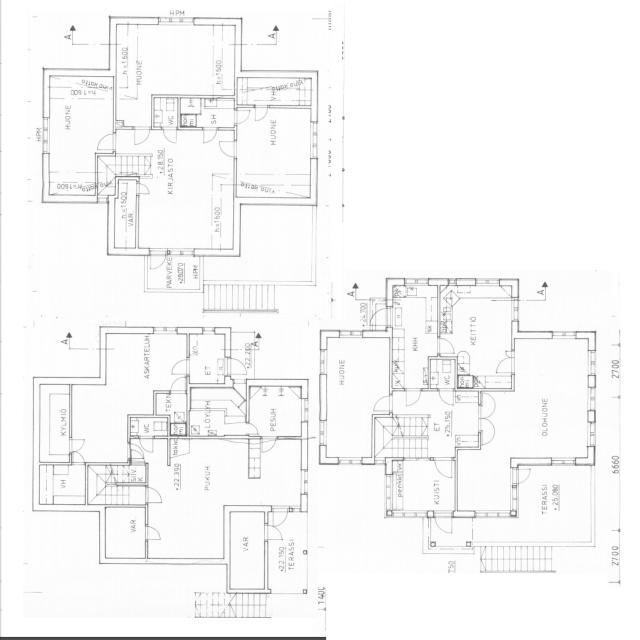door: (128, 414, 170, 440), (428, 353, 456, 390), (478, 395, 498, 442), (95, 130, 118, 153), (433, 455, 455, 479), (433, 511, 455, 535), (226, 355, 248, 379), (369, 305, 391, 329), (494, 353, 516, 376), (371, 393, 393, 414), (169, 356, 191, 376), (436, 334, 456, 356), (148, 250, 168, 270), (218, 138, 238, 158), (131, 437, 151, 457), (67, 435, 88, 454), (168, 374, 188, 393), (144, 485, 164, 504), (270, 506, 289, 526), (404, 387, 422, 408), (132, 126, 151, 145), (233, 106, 252, 125), (264, 523, 284, 541), (161, 125, 179, 144), (200, 125, 218, 144), (514, 466, 532, 484), (144, 524, 163, 541), (253, 102, 269, 122), (438, 388, 455, 406), (128, 447, 146, 464), (138, 435, 155, 453), (261, 435, 277, 453), (136, 180, 152, 196), (70, 449, 86, 465), (244, 421, 260, 436)
window: (308, 118, 321, 159), (39, 114, 52, 154), (157, 15, 196, 26), (473, 509, 512, 520), (585, 419, 599, 449), (317, 346, 329, 378), (586, 348, 599, 377), (298, 397, 310, 426), (317, 416, 328, 446), (550, 328, 579, 339), (395, 508, 426, 518), (338, 328, 367, 338), (473, 276, 501, 286), (336, 457, 364, 466), (152, 325, 179, 334), (404, 276, 430, 285), (168, 248, 196, 255), (202, 326, 217, 334)
zone: (506, 332, 594, 464), (138, 132, 232, 252), (321, 331, 390, 464), (128, 21, 237, 96), (235, 105, 315, 202), (446, 282, 514, 391), (515, 463, 594, 541), (44, 92, 114, 180), (168, 438, 259, 503), (104, 332, 188, 398), (390, 284, 438, 390), (70, 380, 130, 463), (454, 448, 516, 516), (386, 458, 456, 514), (247, 384, 305, 437), (228, 510, 266, 590), (188, 386, 246, 437), (238, 70, 306, 106), (104, 505, 146, 559), (42, 384, 70, 461), (188, 332, 227, 386), (37, 464, 87, 506), (180, 97, 238, 128), (153, 390, 188, 420), (128, 414, 168, 438), (428, 356, 456, 390), (152, 95, 180, 128), (170, 421, 187, 436)
